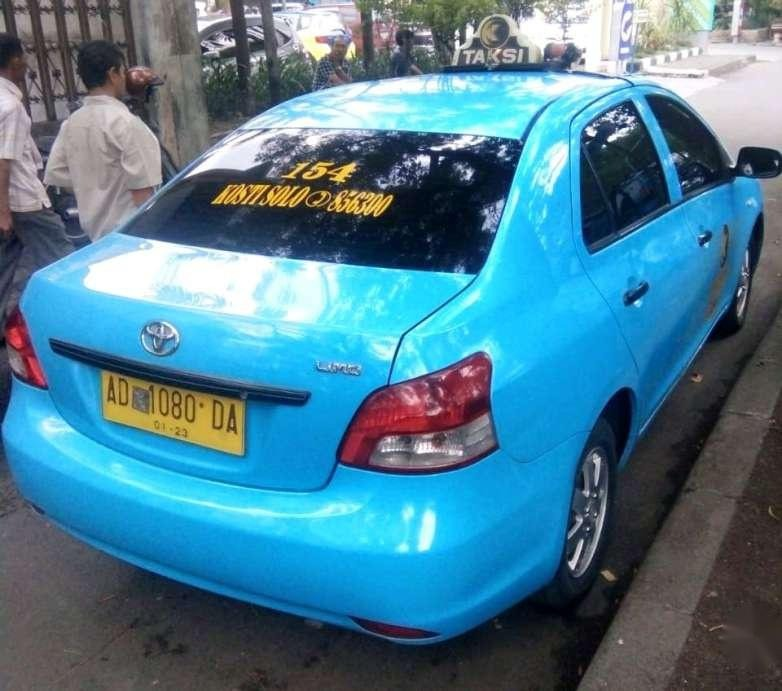plat nomor: (91, 365, 249, 456)
